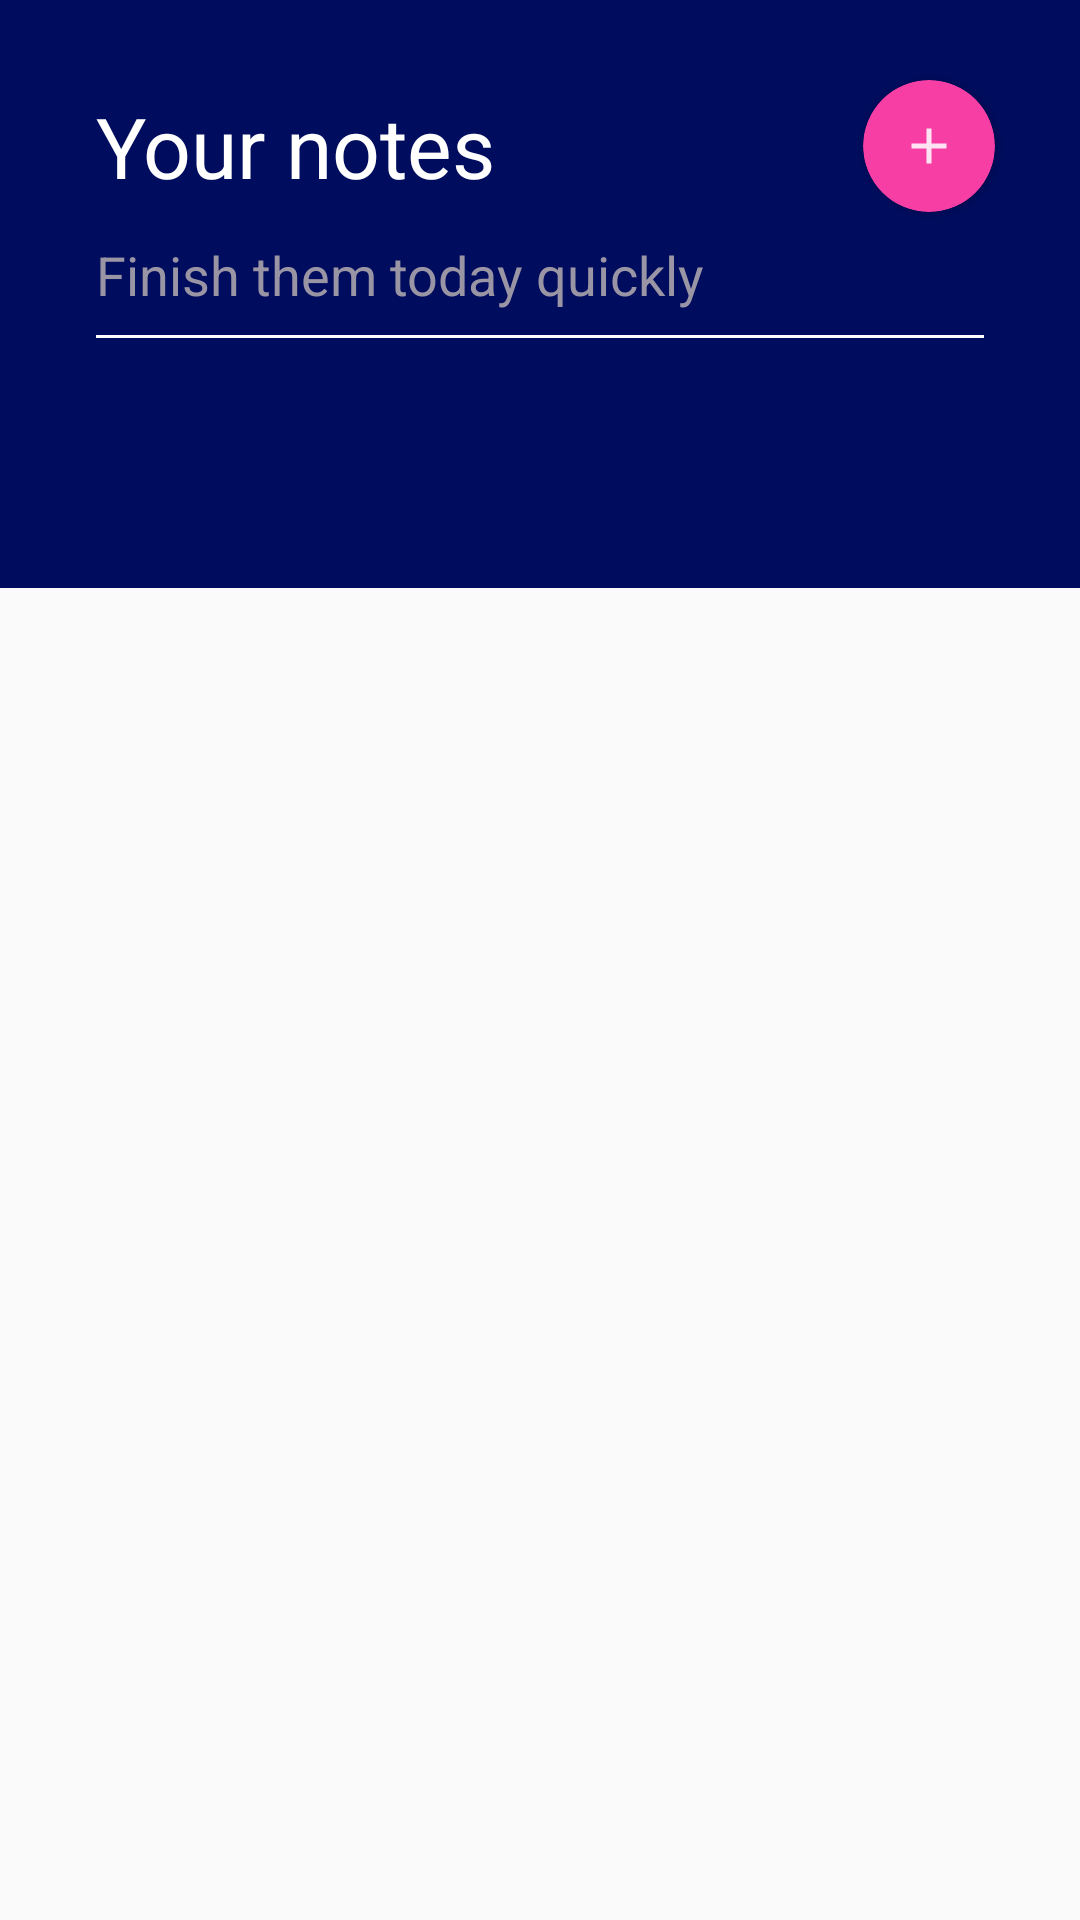

Where icons sit on this 1080x1920 app screen, as [x1=x1, y1=y1, x2=x2, y2=y2]:
add: [x1=911, y1=128, x2=947, y2=164]
